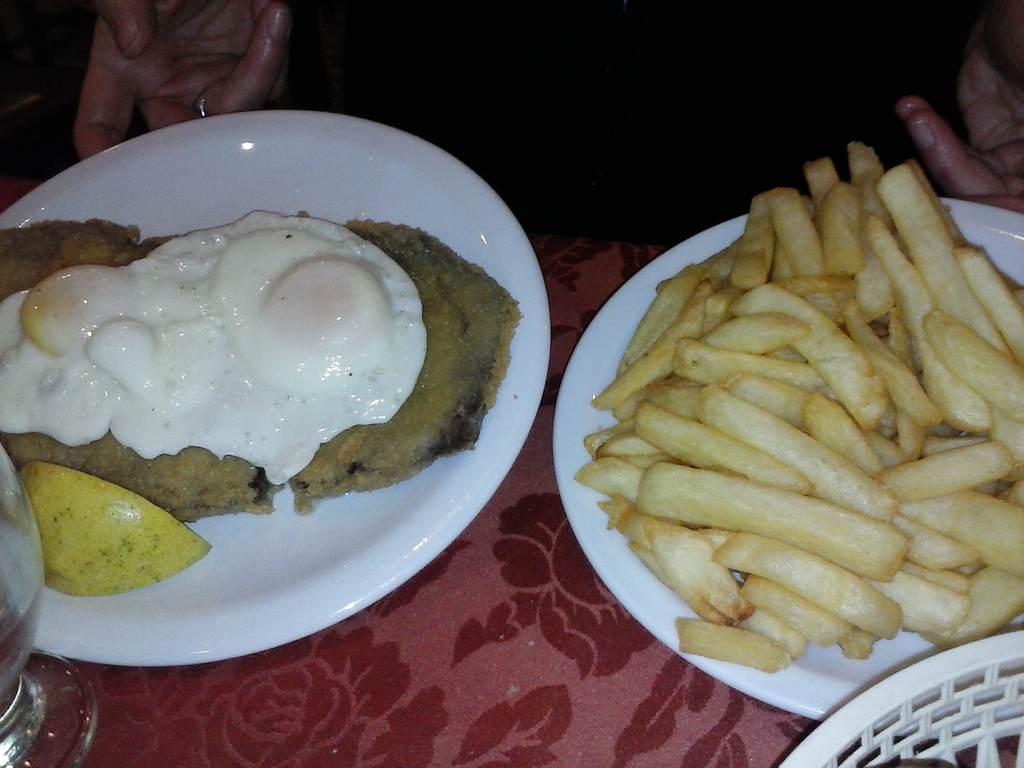plate: (0, 108, 584, 680)
